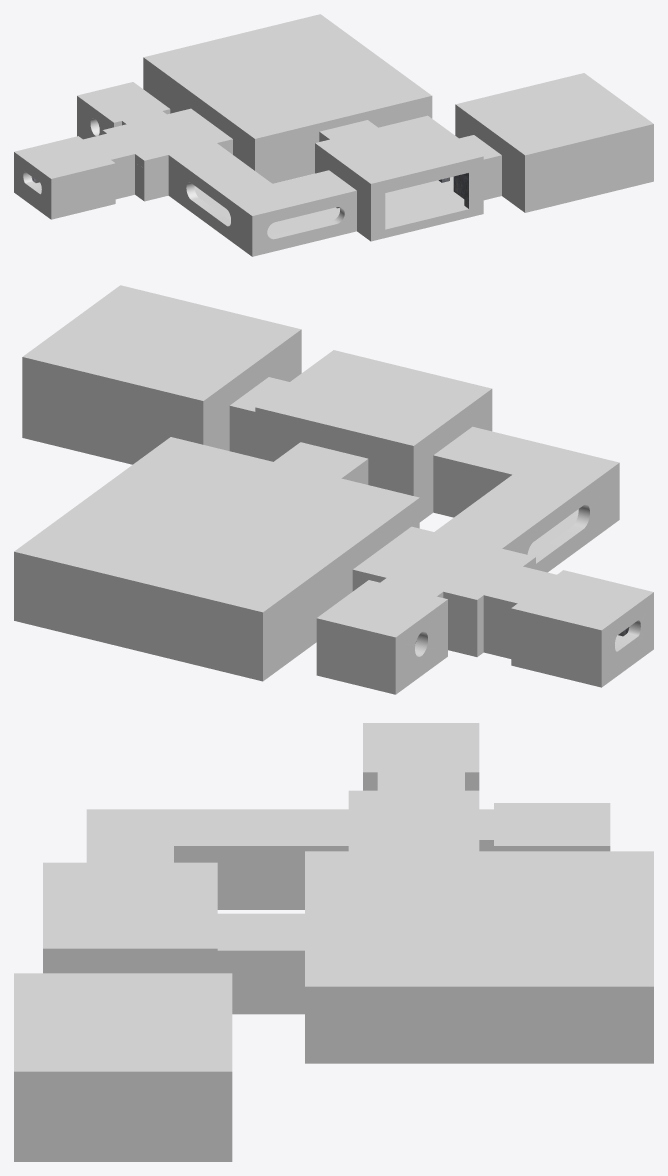
3 renders of one model, top to bottom at view 1: azimuth 30°, elevation 25°; view 2: azimuth 150°, elevation 25°; view 3: azimuth 270°, elevation 25°, orthographic. The views are drawn at different scales.
Parts seen in each view (by area): view 1: BézierCurve, Cube, BézierCurve.003; view 2: BézierCurve, Cube, BézierCurve.003; view 3: BézierCurve, Cube, BézierCurve.003.
Part boxes in pixels (<box>): BézierCurve: <box>14,14,653,224</box>; Cube: <box>14,66,653,248</box>; BézierCurve.003: <box>14,128,653,256</box>; BézierCurve: <box>14,285,653,649</box>; Cube: <box>14,341,653,682</box>; BézierCurve.003: <box>14,426,653,694</box>; BézierCurve: <box>14,723,653,1084</box>; Cube: <box>14,785,653,1148</box>; BézierCurve.003: <box>14,896,653,1161</box>.
Bounding box in the file's own units: 61 × 6.84 × 44.
